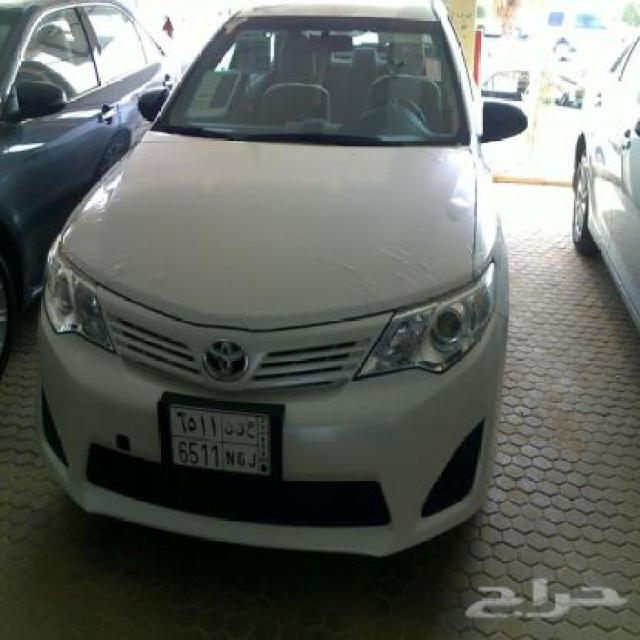license_plate: (166, 401, 274, 481)
